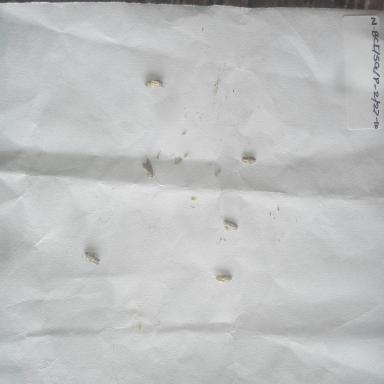pbw: (238, 151, 259, 172), (82, 248, 103, 266), (220, 214, 241, 232), (139, 158, 156, 180), (211, 272, 234, 286), (142, 76, 166, 89)
